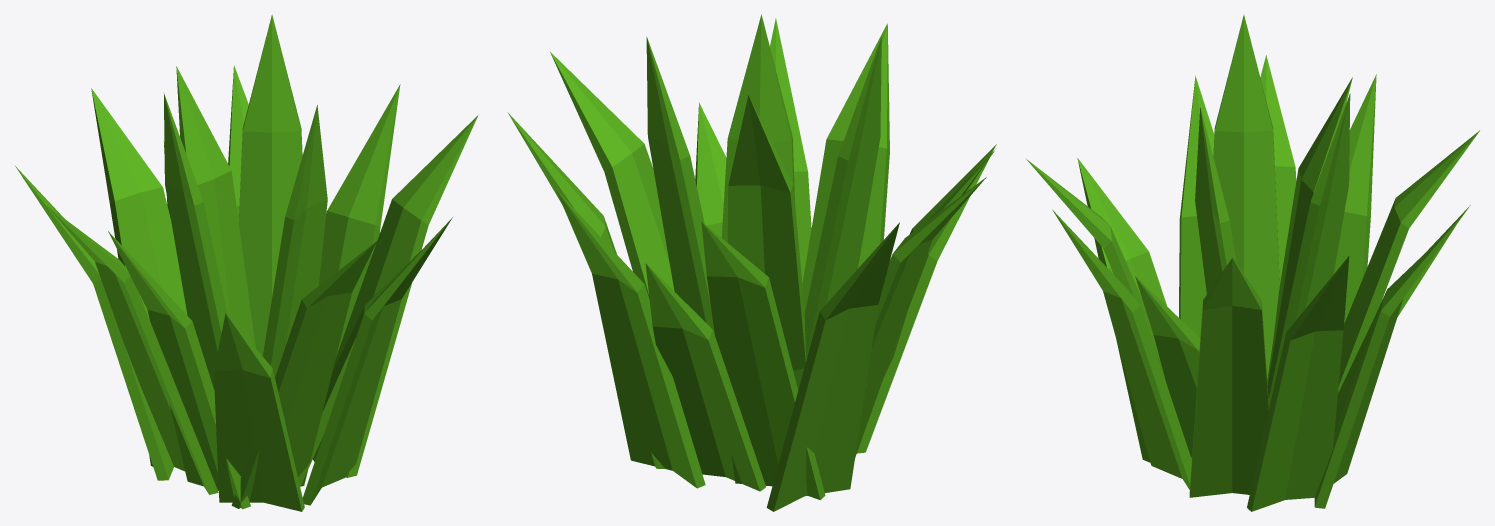
Rendered from Grass_d_01.fbx.
3 views of the same model, side by side, from view 1: azimuth 30°, elevation 25°; view 2: azimuth 150°, elevation 25°; view 3: azimuth 270°, elevation 25° (orthographic). The views are drawn at different scales.
Visible parts, largest first — view 1: Grass_d_01_LOD0; view 2: Grass_d_01_LOD0; view 3: Grass_d_01_LOD0.
Boxes of the visible parts, x1=… form: Grass_d_01_LOD0: x1=15, y1=14, x2=478, y2=511; Grass_d_01_LOD0: x1=507, y1=14, x2=996, y2=511; Grass_d_01_LOD0: x1=1026, y1=15, x2=1479, y2=511.
Size of what is drawn, in the model's own units: 19.86 by 18.38 by 18.84.
